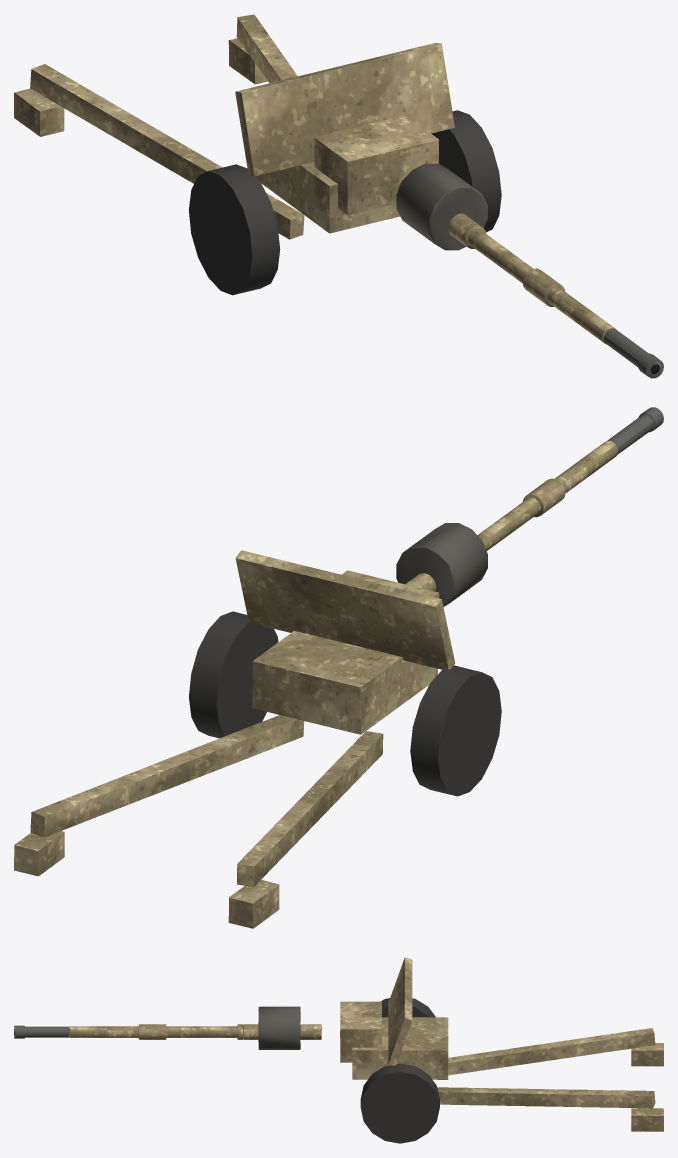
The model's file is art_e4_us_towed_LOD1.glb.
3 views of the same model, one above another, from view 1: azimuth 30°, elevation 25°; view 2: azimuth 150°, elevation 25°; view 3: azimuth 270°, elevation 25° (orthographic). The views are drawn at different scales.
Parts seen in each view (by area): view 1: art_e4_us_towed_LOD1_body, art_e4_us_towed_LOD1_track, art_e4_us_towed_LOD1_deck, art_e4_us_towed_LOD1_gun; view 2: art_e4_us_towed_LOD1_body, art_e4_us_towed_LOD1_track, art_e4_us_towed_LOD1_deck, art_e4_us_towed_LOD1_gun; view 3: art_e4_us_towed_LOD1_body, art_e4_us_towed_LOD1_track, art_e4_us_towed_LOD1_deck, art_e4_us_towed_LOD1_gun.
Boxes of the visible parts, x1,y1,x2,y2 form: art_e4_us_towed_LOD1_body: (14,14,616,344); art_e4_us_towed_LOD1_track: (189,110,501,295); art_e4_us_towed_LOD1_deck: (396,163,487,250); art_e4_us_towed_LOD1_gun: (603,328,663,378); art_e4_us_towed_LOD1_body: (14,441,618,928); art_e4_us_towed_LOD1_track: (189,611,501,796); art_e4_us_towed_LOD1_deck: (396,523,487,606); art_e4_us_towed_LOD1_gun: (607,407,663,454); art_e4_us_towed_LOD1_body: (69,957,663,1131); art_e4_us_towed_LOD1_track: (360,998,439,1143); art_e4_us_towed_LOD1_deck: (258,1006,300,1049); art_e4_us_towed_LOD1_gun: (14,1025,69,1038).
Bounding box in the file's own units: 2.98 × 2.16 × 10.77.
Materials: 5 (1 with a texture image).
